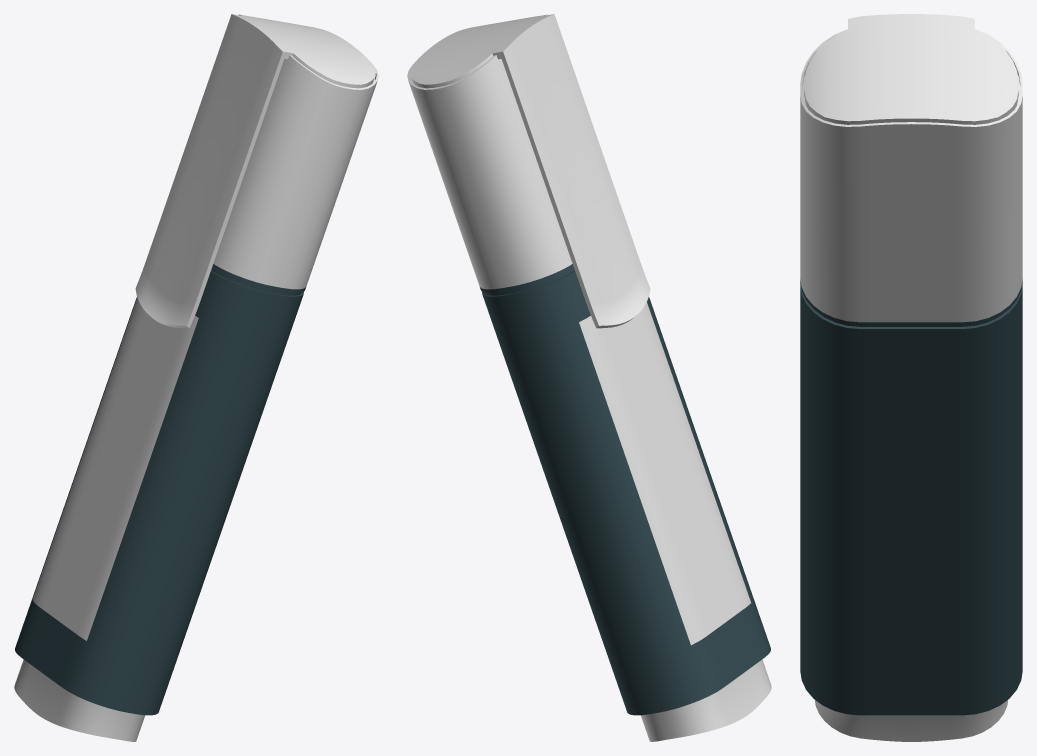
File: maker.fbx
The picture shows the model from 3 angles, left to right: view 1: azimuth 30°, elevation 25°; view 2: azimuth 150°, elevation 25°; view 3: azimuth 270°, elevation 25°; orthographic projection. The views are drawn at different scales.
Visible parts, largest first — view 1: body, cap; view 2: body, cap; view 3: body, cap.
Boxes of the visible parts, x1,y1,x2,y2 form: body: (14, 264, 305, 741); cap: (135, 14, 378, 328); body: (480, 264, 771, 741); cap: (407, 14, 650, 328); body: (800, 279, 1022, 741); cap: (800, 14, 1022, 322).
Bounding box in the file's own units: 394 × 789 × 194.
